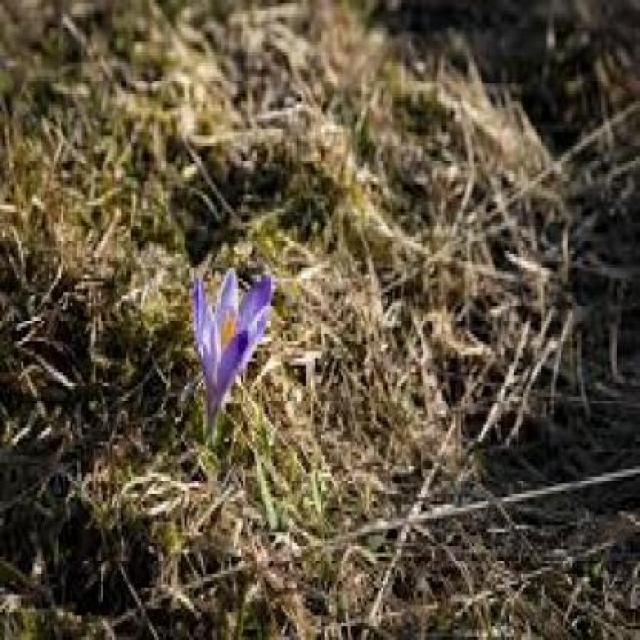Flower: (192, 270, 272, 415)
